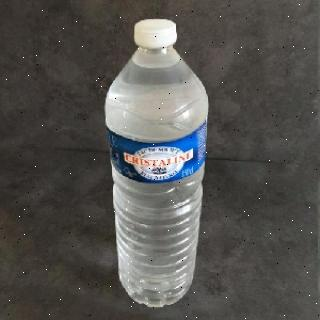Plastic-bottle: (103, 19, 214, 314)
